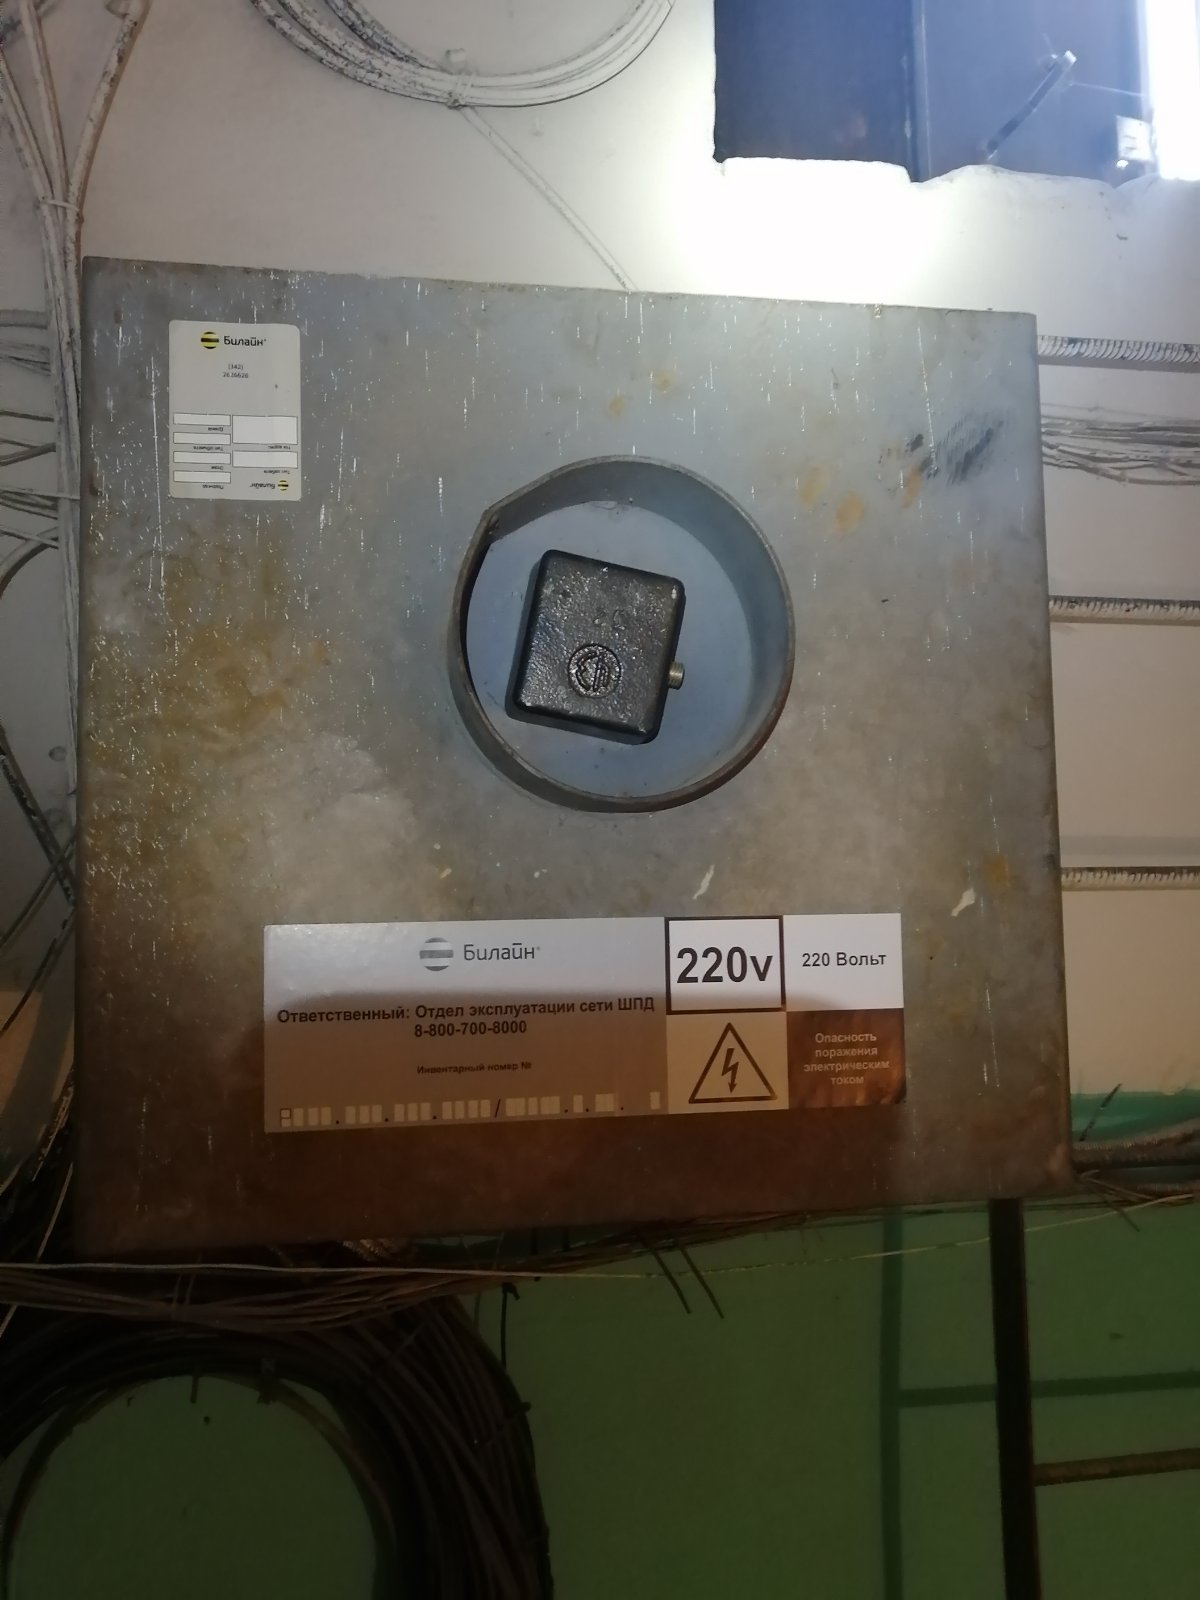shta-9: (59, 233, 1093, 1274)
